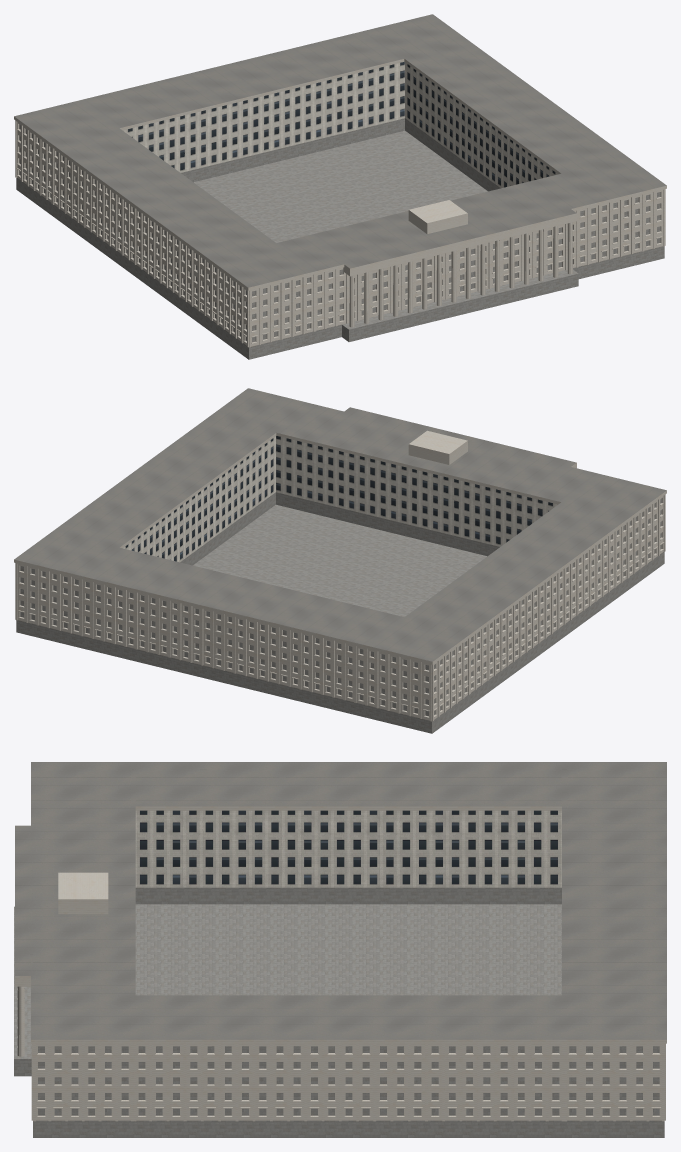
The model's file is cannon_house.glb.
3 renders of one model, top to bottom at view 1: azimuth 30°, elevation 25°; view 2: azimuth 150°, elevation 25°; view 3: azimuth 270°, elevation 25°, orthographic. The views are drawn at different scales.
Parts seen in each view (by area): view 1: cannon_house; view 2: cannon_house; view 3: cannon_house.
Boxes of the visible parts, bbox=[...] form: cannon_house: bbox=[14, 14, 666, 359]; cannon_house: bbox=[14, 388, 666, 733]; cannon_house: bbox=[14, 762, 666, 1137].
Size of the model in its own units: 144 by 27.6 by 143.
Materials: 4 (4 with a texture image).
